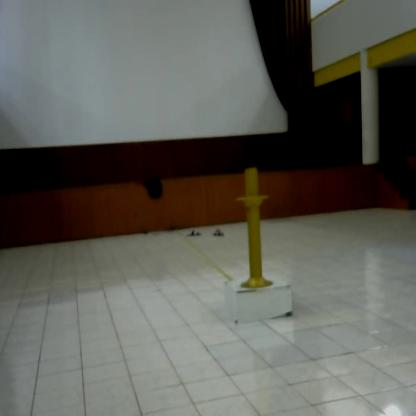pole: (237, 166, 276, 294)
